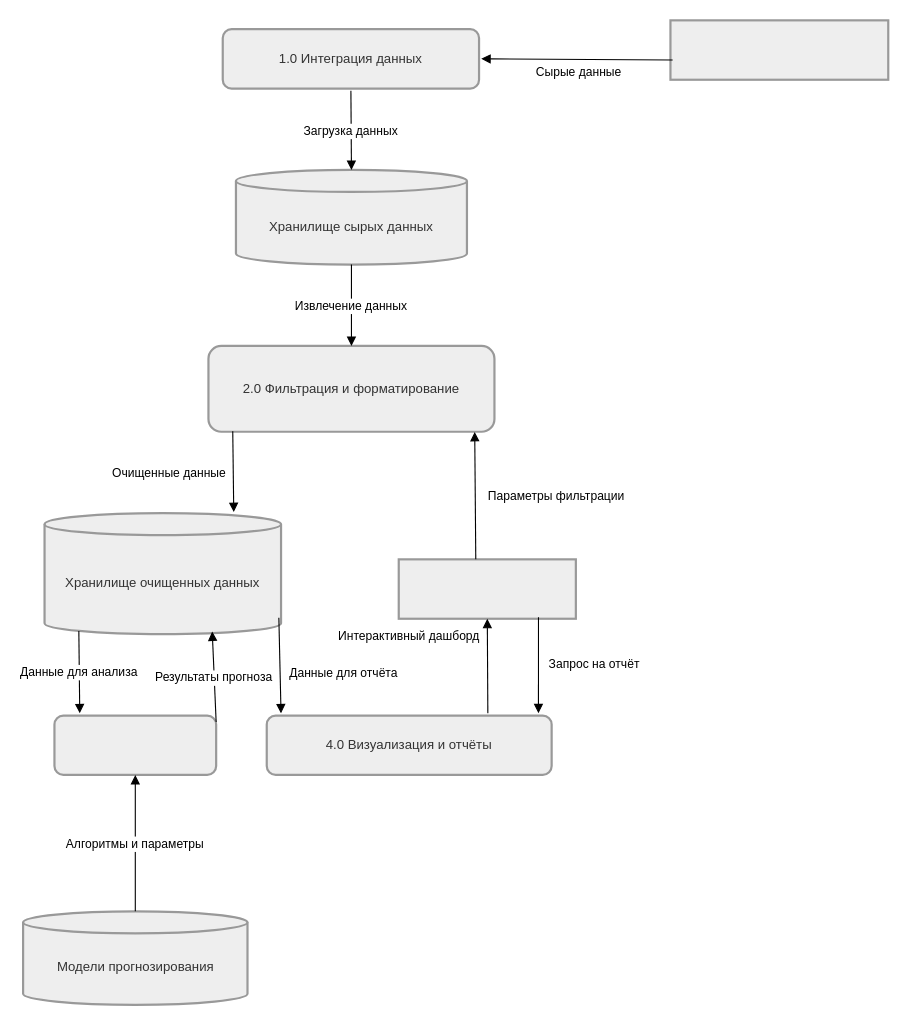
This 908x1024 diagram has some shape labels left out. The shapes that lost their labels are listed below. From the top down, each one's centre as x and y in pixels, then its label:
At [779,49]: "Источники данных".
At [486,588]: "Пользователь".
At [135,745]: "3.0 Прогноз".
